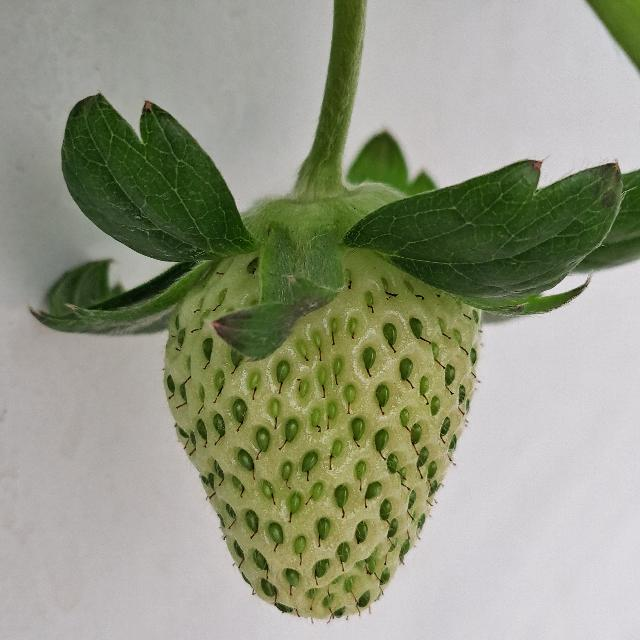Health_25: (163, 248, 483, 620)
